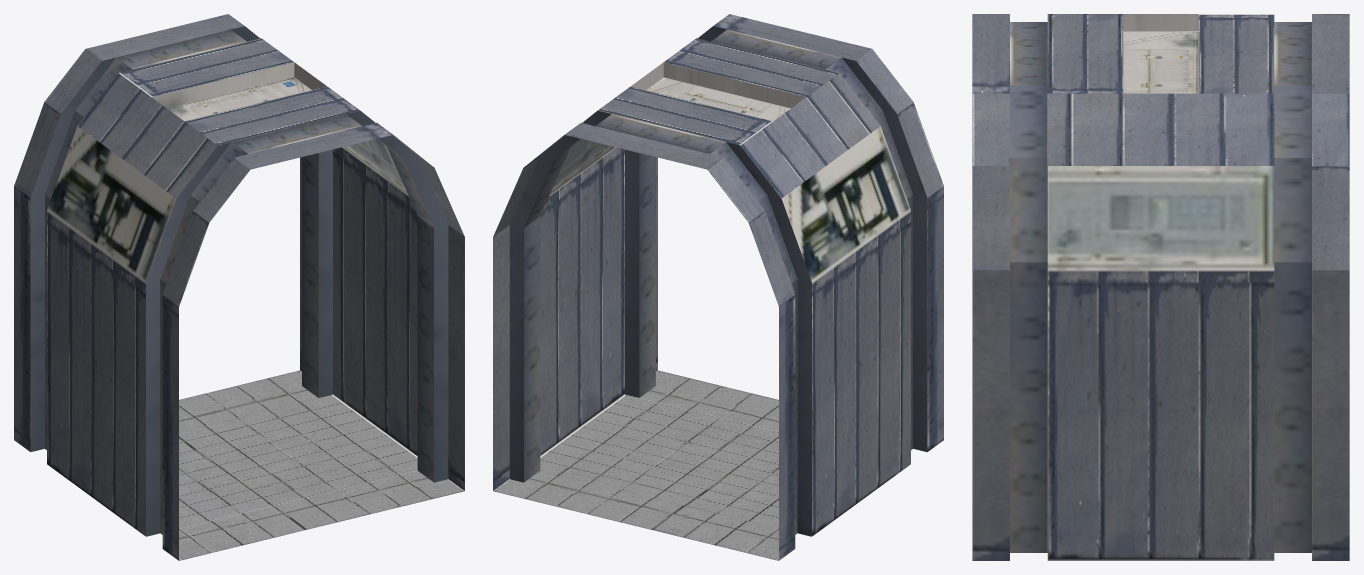
The model's file is base_hallway.fbx.
3 renders of one model, left to right at view 1: azimuth 30°, elevation 25°; view 2: azimuth 150°, elevation 25°; view 3: azimuth 270°, elevation 25°, orthographic. The views are drawn at different scales.
Parts seen in each view (by area): view 1: Plane; view 2: Plane; view 3: Plane.
Part boxes in pixels (bbox=[...]): Plane: bbox=[14, 14, 464, 560]; Plane: bbox=[493, 14, 943, 560]; Plane: bbox=[972, 14, 1349, 560].
Size of the model in its own units: 200 by 250 by 200.
